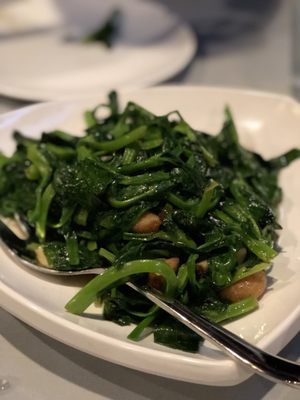curry: (0, 92, 287, 329)
salad: (122, 280, 300, 390)
sushi: (0, 1, 199, 103)
